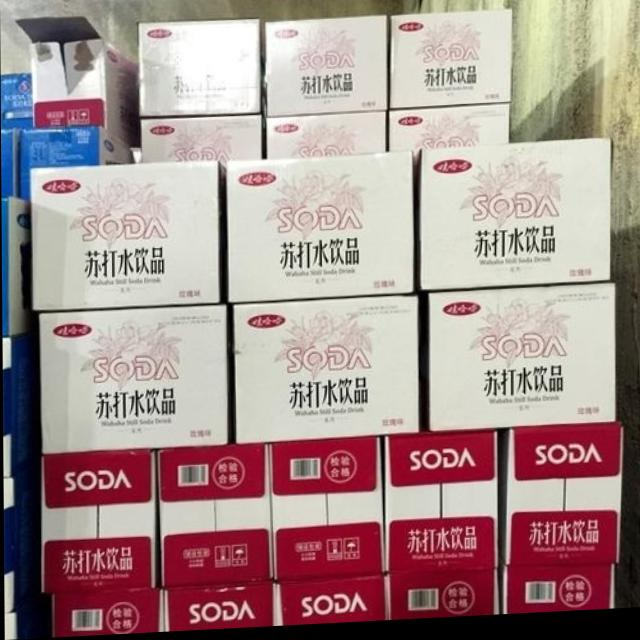box: (418, 143, 611, 295), (31, 163, 227, 310), (226, 155, 416, 305), (228, 300, 419, 446), (37, 308, 227, 454), (426, 292, 614, 437), (497, 428, 623, 572), (16, 17, 141, 156), (266, 442, 384, 585), (382, 436, 500, 577), (40, 453, 155, 596), (155, 448, 272, 587), (265, 20, 391, 121), (389, 17, 513, 113), (141, 22, 259, 118), (18, 125, 141, 199), (141, 118, 265, 166), (265, 114, 387, 162), (276, 578, 386, 628), (161, 585, 278, 632), (387, 575, 501, 623), (388, 109, 509, 154), (2, 333, 39, 479), (3, 473, 41, 614), (50, 587, 159, 635), (500, 573, 613, 618), (1, 198, 33, 338), (4, 595, 53, 639), (0, 73, 33, 129), (1, 129, 19, 198)
